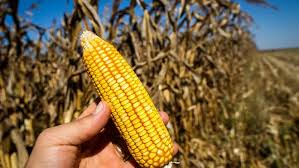milho: (68, 27, 176, 168)
